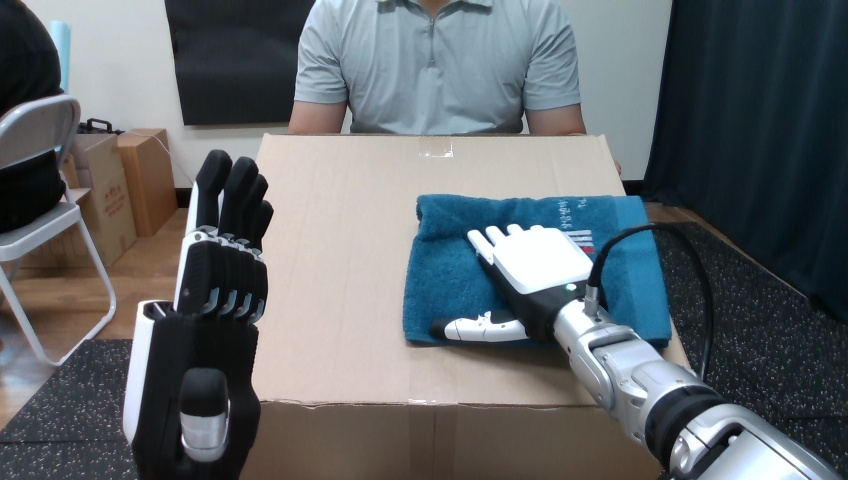left robot hand: (123, 150, 272, 478), (671, 221, 847, 478)
